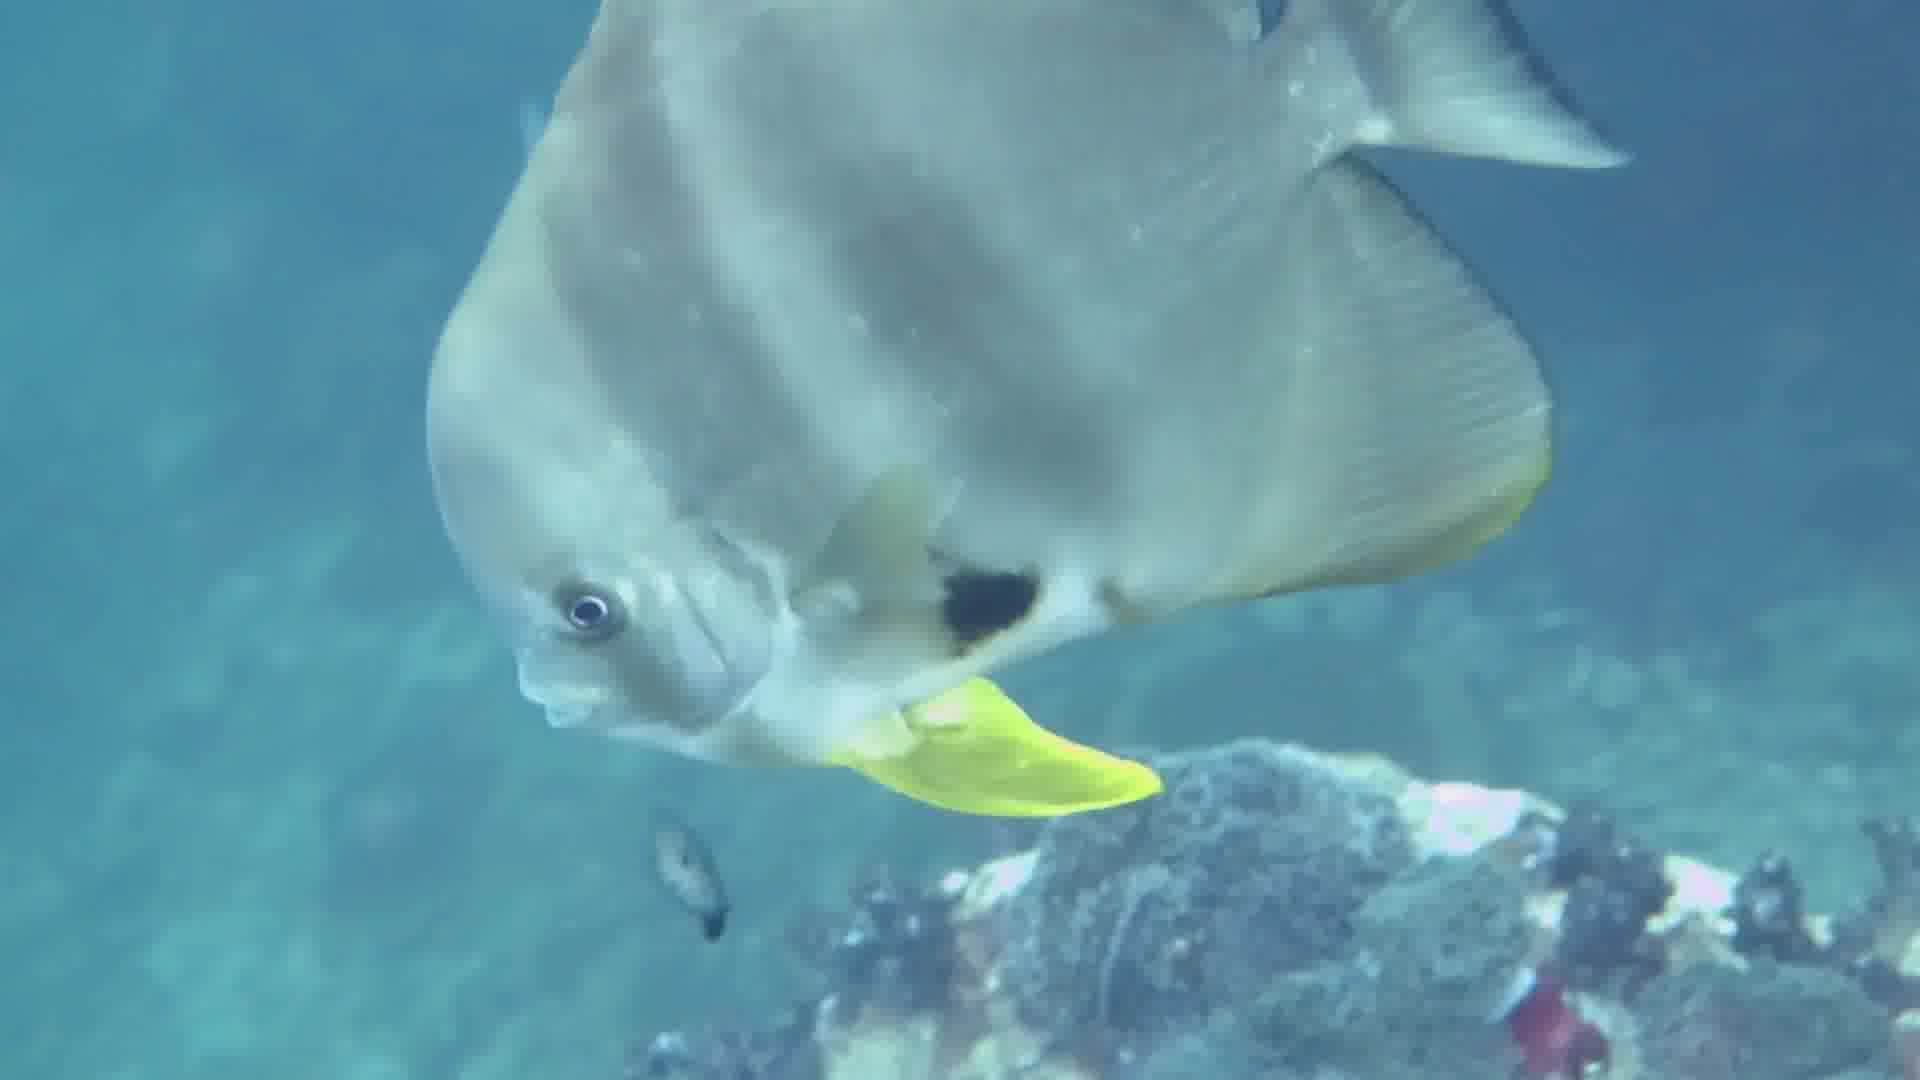Platax teira: (401, 1, 1604, 884)
